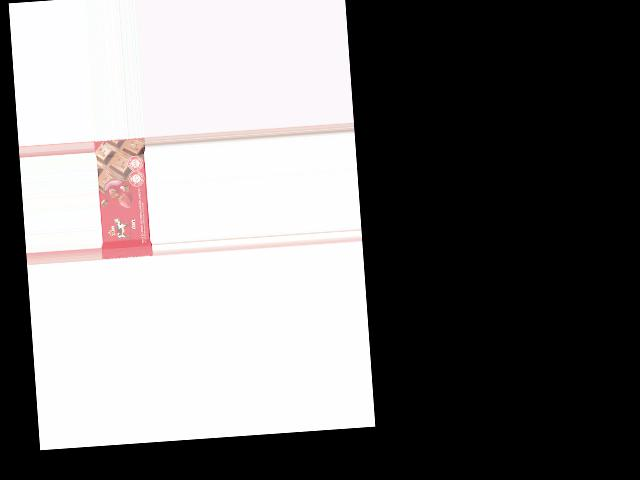chocolate: (94, 138, 153, 260)
